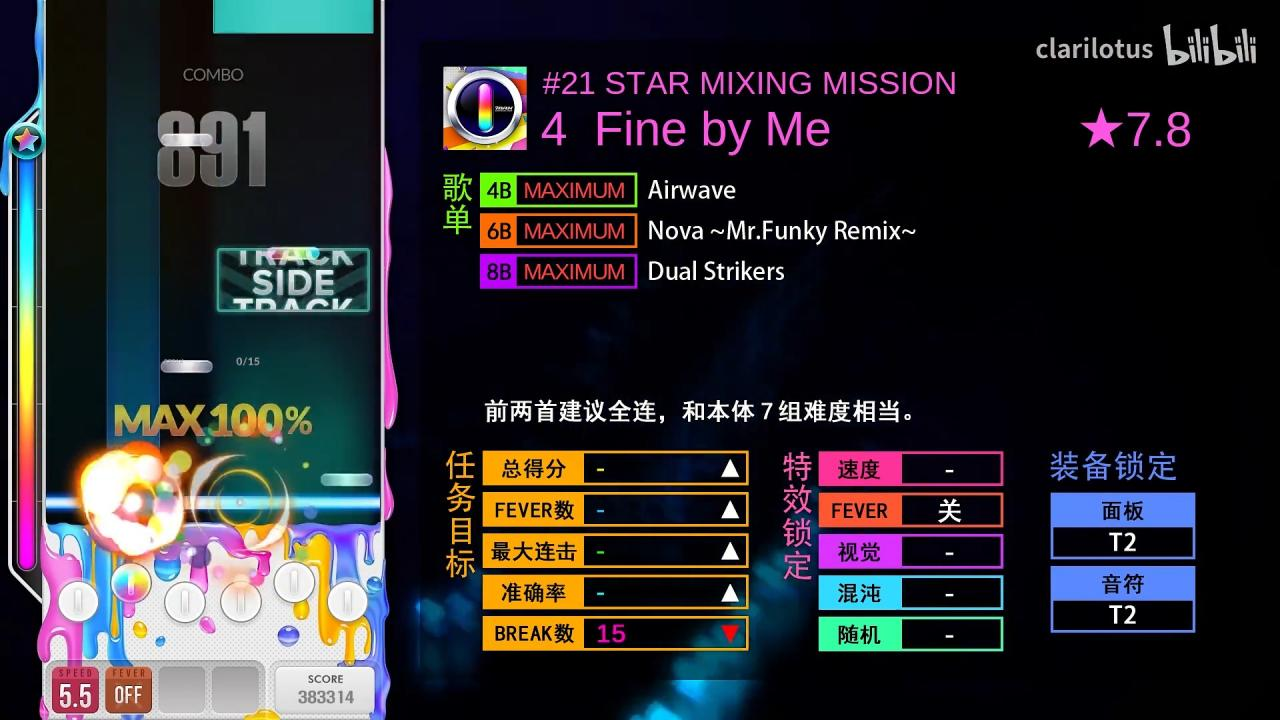note: (160, 359, 212, 374), (160, 133, 213, 147), (320, 474, 373, 487), (268, 247, 319, 260)
side-start: (213, 22, 374, 34)
